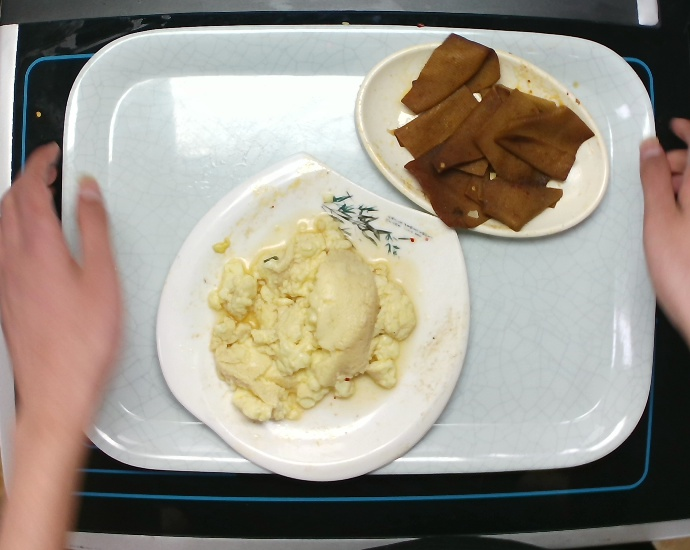JYsf-Mian_Pan: (153, 148, 473, 485)
JYsf-Tuo_Yuan_Wan: (352, 39, 612, 241)
